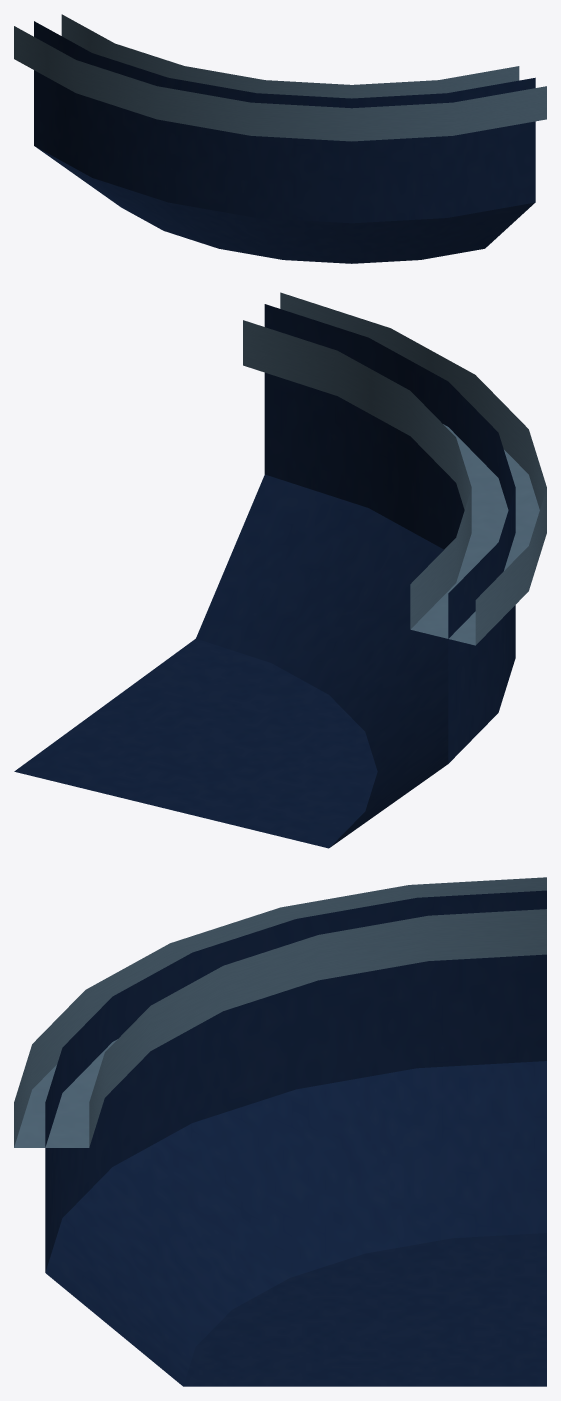
The model's file is cell_2.obj.
3 renders of one model, top to bottom at view 1: azimuth 30°, elevation 25°; view 2: azimuth 150°, elevation 25°; view 3: azimuth 270°, elevation 25°, orthographic. The views are drawn at different scales.
Visible parts, largest first — view 1: cell_2; view 2: cell_2; view 3: cell_2.
Part boxes in pixels (x1,y1,x2,y2): cell_2: (14, 14, 546, 263); cell_2: (14, 292, 546, 848); cell_2: (14, 877, 546, 1386).
Bounding box in the file's own units: 0.425 × 0.25 × 0.425.
